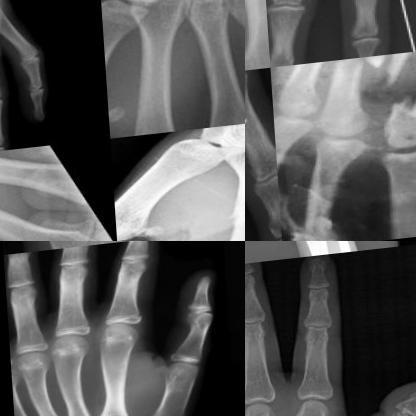fracture: (325, 61, 407, 106), (381, 94, 415, 155), (212, 199, 244, 240)
